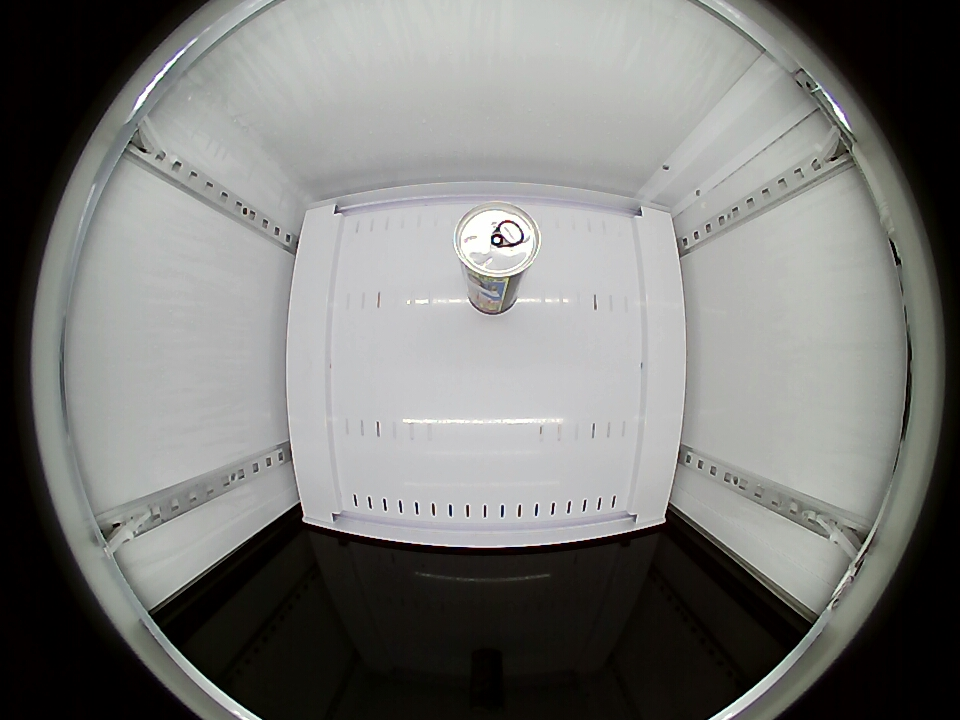yezhi: (454, 201, 541, 286)
